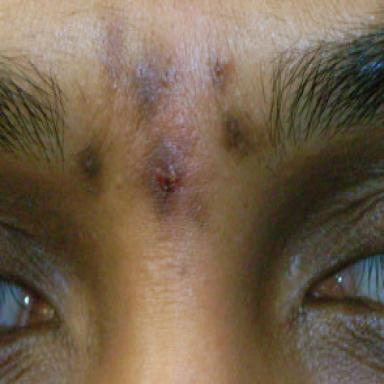acne: (145, 138, 186, 214), (134, 56, 176, 123), (222, 111, 265, 155), (211, 59, 235, 94), (77, 143, 101, 177)
